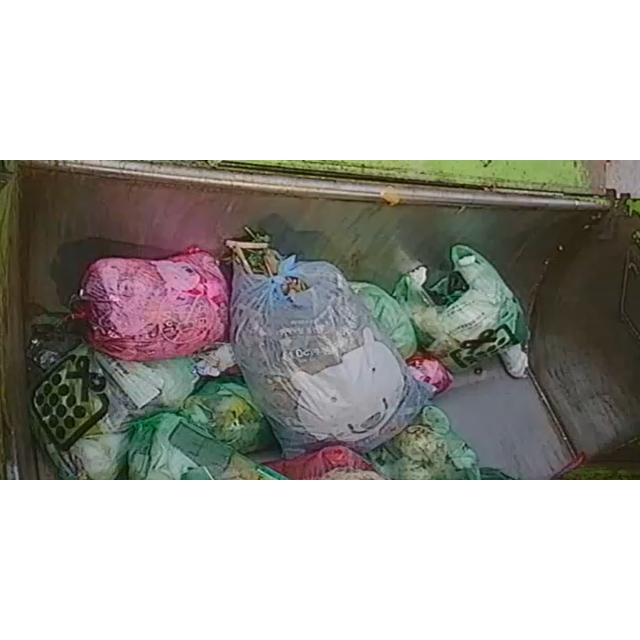general_trashbag: (31, 344, 232, 479), (394, 245, 529, 371), (128, 414, 280, 480), (368, 406, 480, 480), (180, 376, 276, 454)
other_trashbag: (230, 256, 431, 456), (81, 248, 229, 361)
